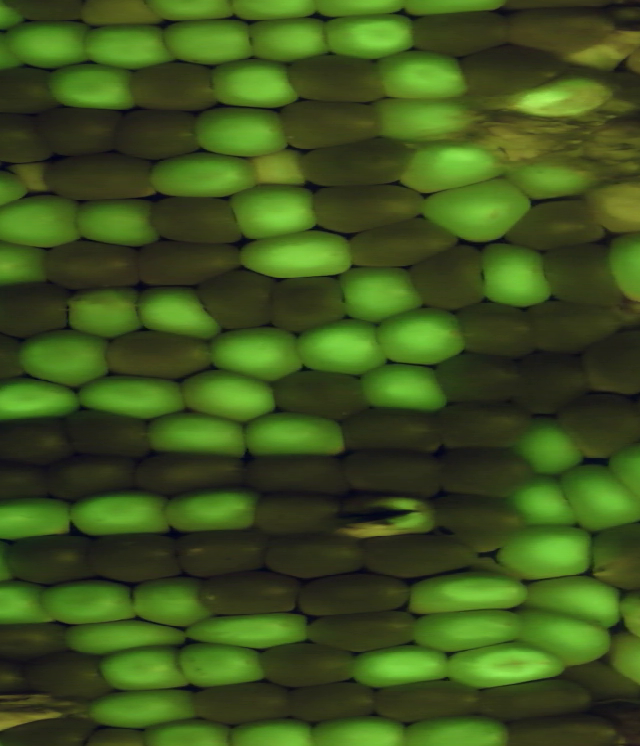fluorescent: (415, 175, 539, 249), (395, 136, 523, 199), (514, 568, 630, 631), (504, 606, 615, 670), (144, 147, 265, 205), (441, 639, 571, 692), (399, 568, 535, 618), (503, 71, 625, 126), (235, 227, 359, 281), (492, 521, 599, 583), (293, 313, 393, 378), (226, 179, 323, 245), (556, 459, 640, 535), (13, 327, 115, 389), (365, 94, 485, 146), (62, 486, 177, 540), (178, 608, 316, 653), (202, 324, 307, 383), (504, 411, 595, 479), (240, 406, 350, 461), (131, 281, 227, 344), (141, 409, 253, 463), (337, 263, 430, 328), (375, 304, 468, 369), (74, 372, 190, 423), (61, 615, 198, 658), (34, 575, 143, 629), (371, 46, 474, 103), (406, 607, 530, 654), (315, 9, 422, 63), (191, 103, 294, 159), (0, 16, 99, 74), (158, 12, 258, 69), (205, 54, 303, 112), (180, 366, 279, 423), (0, 191, 91, 253), (478, 238, 556, 310), (126, 570, 215, 633), (92, 641, 193, 696), (346, 640, 459, 689), (68, 194, 165, 250), (358, 357, 451, 415), (78, 18, 177, 72), (41, 59, 138, 114), (169, 639, 271, 691), (337, 490, 443, 540), (502, 469, 586, 532), (86, 684, 202, 729), (160, 482, 260, 534), (502, 154, 602, 205), (243, 12, 334, 68), (63, 282, 150, 340), (0, 371, 84, 425), (395, 713, 514, 746), (307, 711, 414, 746), (0, 494, 77, 541), (135, 714, 238, 746), (0, 575, 59, 629), (226, 712, 314, 746), (604, 627, 640, 708), (605, 226, 640, 309), (248, 144, 311, 189), (606, 435, 640, 514), (0, 237, 52, 288), (140, 1, 237, 28), (225, 1, 324, 26), (0, 168, 34, 219)
nonfluorescent: (495, 4, 622, 64), (340, 213, 464, 271), (430, 489, 529, 561), (295, 133, 420, 190), (304, 180, 431, 236), (553, 388, 640, 469), (452, 39, 571, 97), (519, 296, 627, 359), (135, 233, 250, 292), (353, 531, 493, 579), (129, 447, 251, 502), (509, 347, 595, 425), (38, 150, 159, 205), (535, 240, 630, 310), (475, 672, 597, 726), (101, 326, 216, 383), (190, 263, 283, 333), (498, 196, 611, 252), (276, 96, 387, 153), (0, 529, 105, 589), (283, 50, 393, 106), (301, 607, 424, 657), (41, 236, 147, 294), (429, 398, 536, 455), (409, 6, 516, 63), (289, 570, 416, 618), (182, 677, 297, 730), (370, 677, 487, 729), (404, 245, 493, 313), (337, 444, 451, 497), (435, 444, 537, 503), (239, 449, 356, 500), (259, 530, 369, 584), (265, 368, 376, 421), (194, 565, 305, 618), (452, 297, 542, 362), (168, 525, 274, 580), (84, 529, 184, 587), (106, 103, 205, 161), (144, 192, 248, 247), (337, 405, 449, 456), (431, 349, 527, 408), (44, 451, 146, 505), (267, 273, 355, 335), (121, 57, 220, 112), (18, 647, 117, 702), (59, 404, 151, 463), (35, 101, 128, 159), (282, 679, 385, 729), (249, 488, 343, 542), (256, 639, 359, 688), (576, 324, 640, 400), (0, 278, 74, 340), (0, 416, 81, 471), (555, 656, 640, 705), (0, 619, 76, 668), (503, 714, 617, 746), (0, 710, 98, 746), (585, 176, 640, 240), (0, 63, 65, 117), (0, 110, 55, 165), (0, 456, 57, 508), (79, 725, 150, 746), (0, 654, 33, 697)
